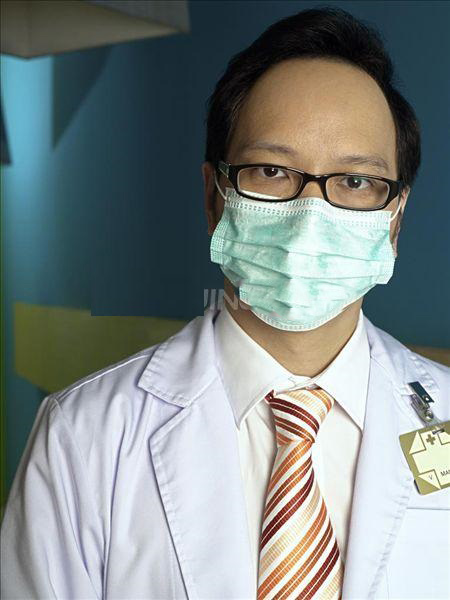face_mask: (237, 77, 390, 334)
